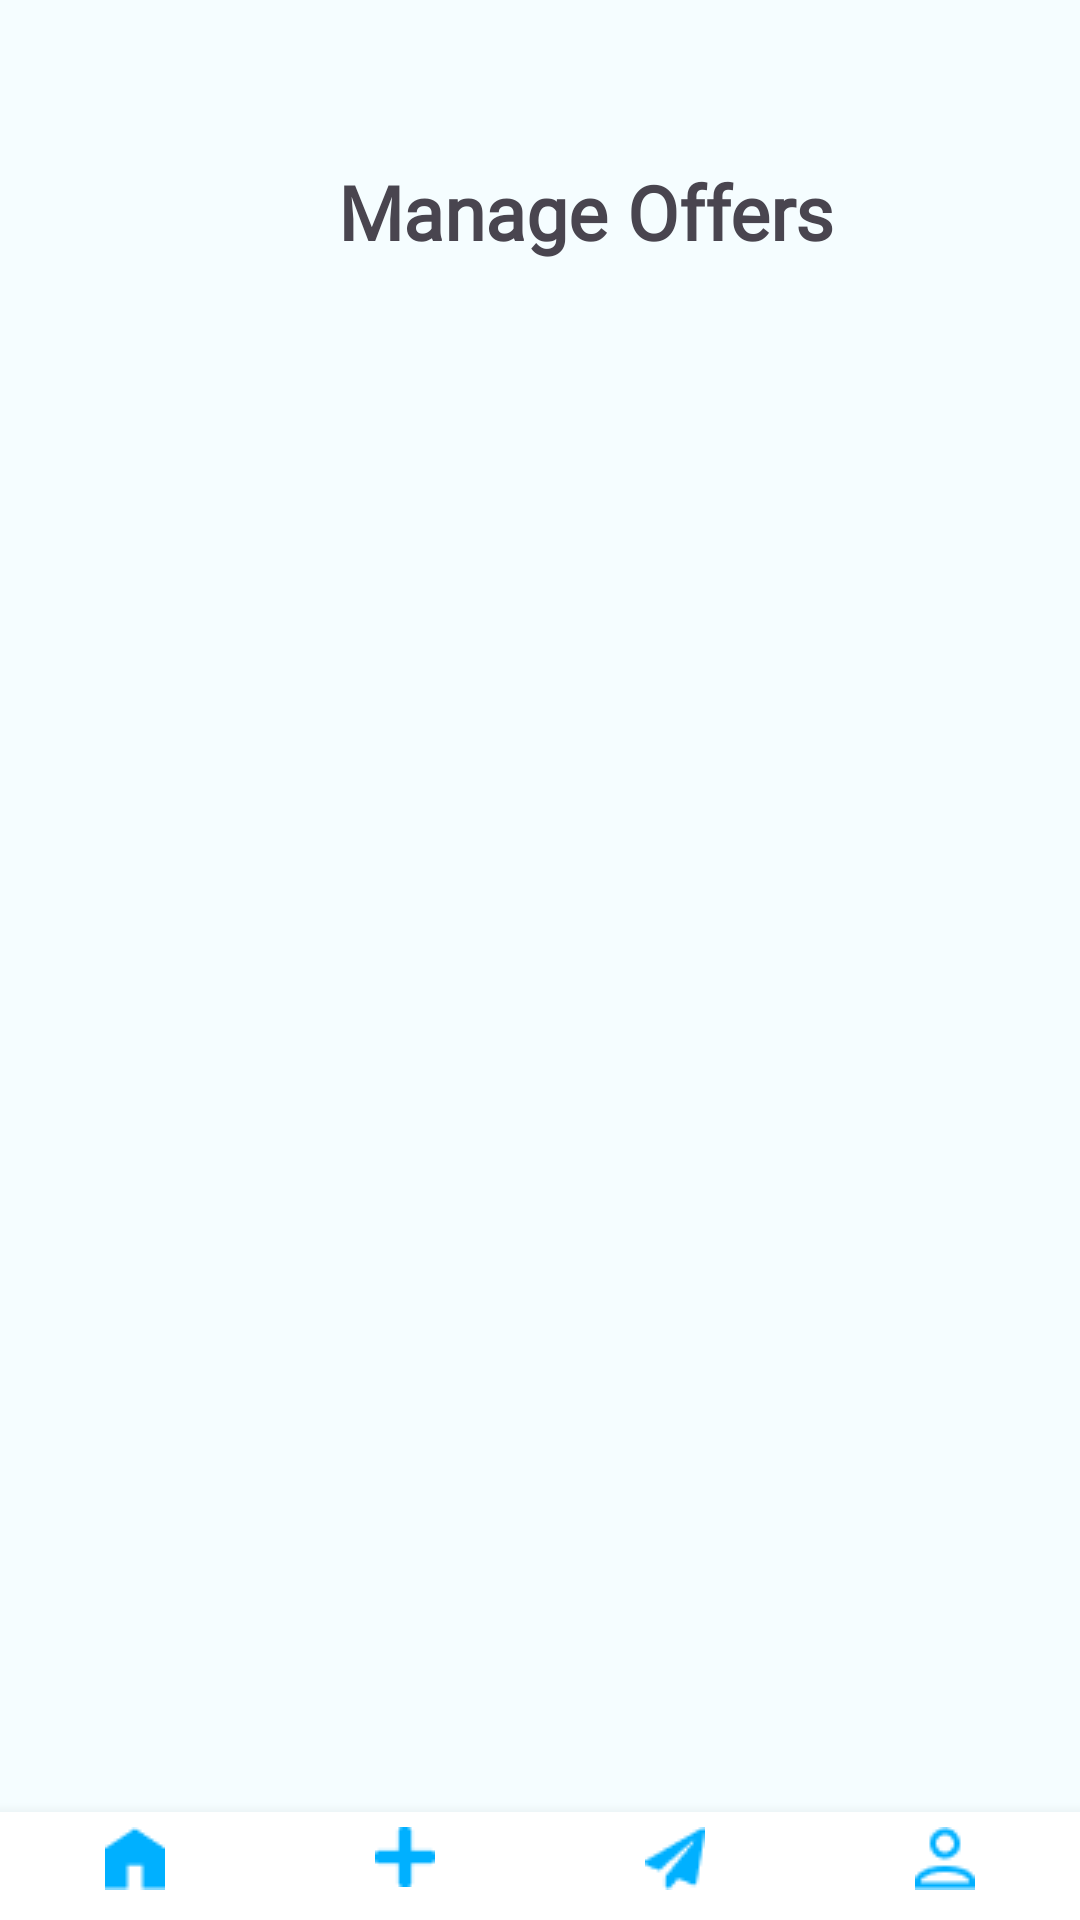

Icons on this 1080x1920 Android screen, each with its box as (x1, y1, x2, y2):
home: (105, 1827, 165, 1890)
message: (645, 1827, 705, 1890)
plus: (375, 1827, 435, 1887)
profil: (915, 1827, 975, 1890)
